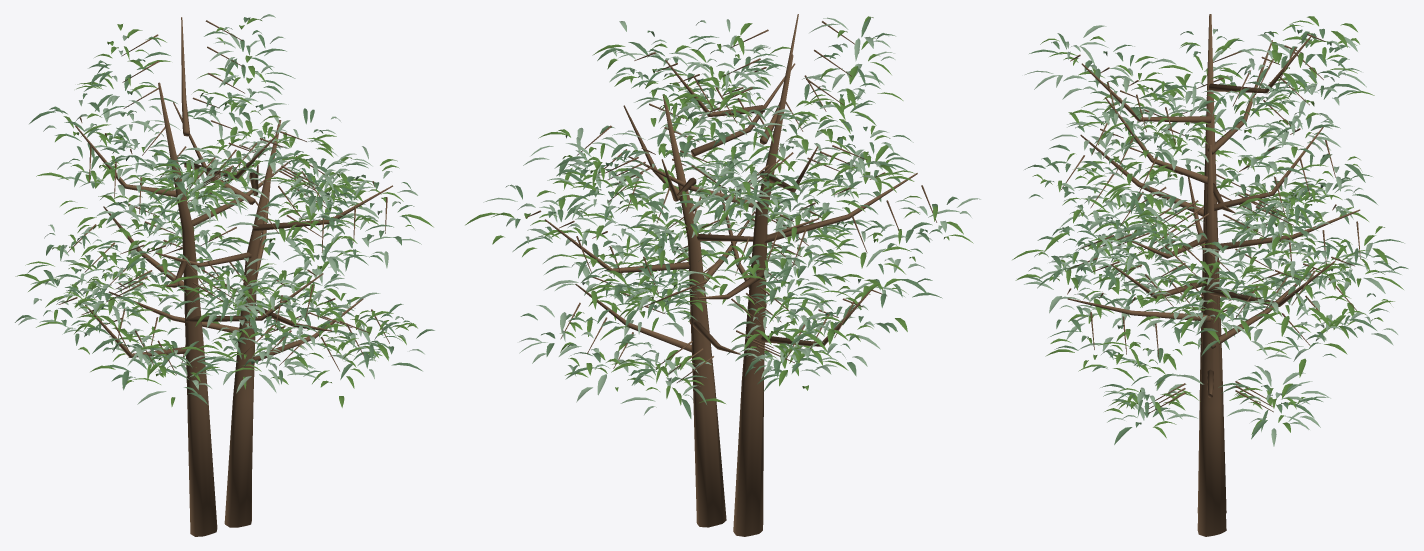
File: sc_river_willow.glb
The picture shows the model from 3 angles, left to right: view 1: azimuth 30°, elevation 25°; view 2: azimuth 150°, elevation 25°; view 3: azimuth 270°, elevation 25°; orthographic projection. The views are drawn at different scales.
Visible parts, largest first — view 1: sc_river_willow; view 2: sc_river_willow; view 3: sc_river_willow.
Part boxes in pixels (bbox=[...]): sc_river_willow: bbox=[15, 14, 434, 536]; sc_river_willow: bbox=[465, 14, 980, 536]; sc_river_willow: bbox=[1012, 14, 1408, 536].
Size of the model in its own units: 5.89 by 7.13 by 5.21.
